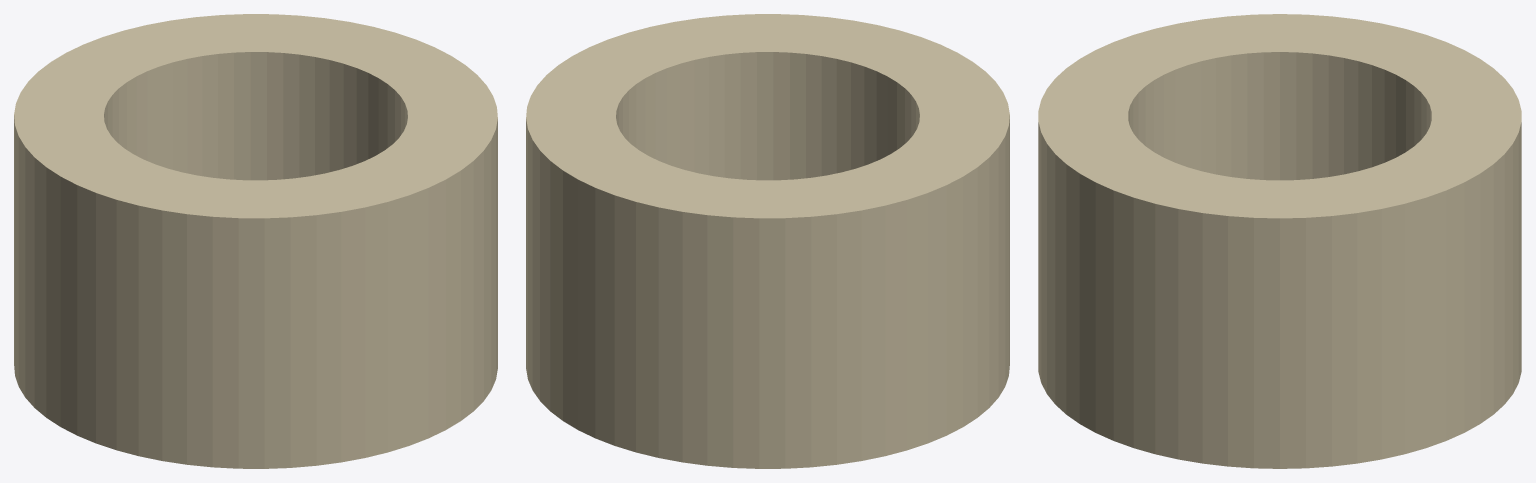
Rendered from ps-pump-shaft-bushing.glb.
The picture shows the model from 3 angles, left to right: view 1: azimuth 30°, elevation 25°; view 2: azimuth 150°, elevation 25°; view 3: azimuth 270°, elevation 25°; orthographic projection.
Parts seen in each view (by area): view 1: world; view 2: world; view 3: world.
Boxes of the visible parts, box(x1,y1,x2,y2) form: world: box(14, 14, 497, 468); world: box(526, 14, 1009, 468); world: box(1038, 14, 1521, 468).
Size of the model in its own units: 0.028 by 0.016 by 0.028.
